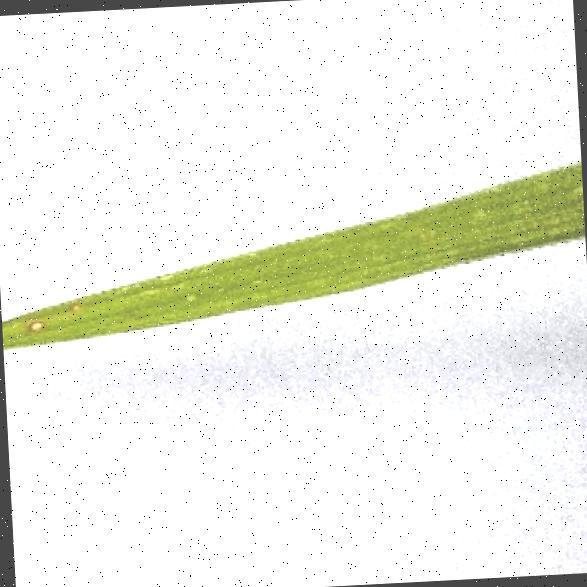Leaf_smut: (15, 288, 90, 339)
